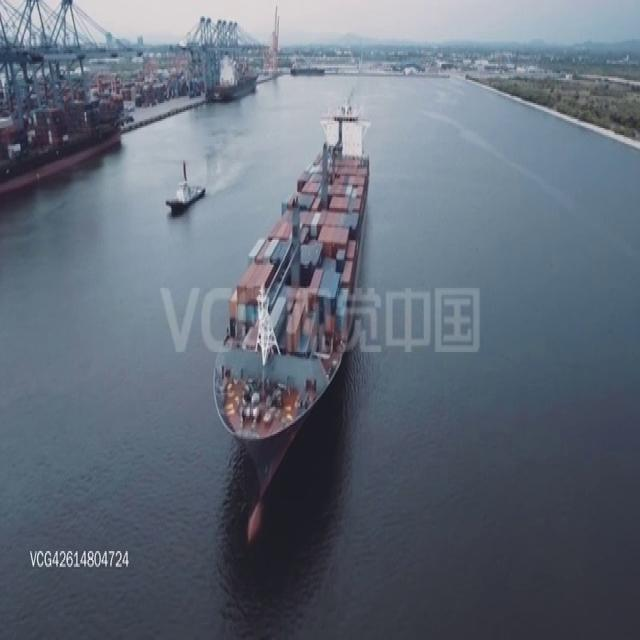cargoship: (214, 108, 373, 513)
houseboat: (164, 157, 204, 215)
